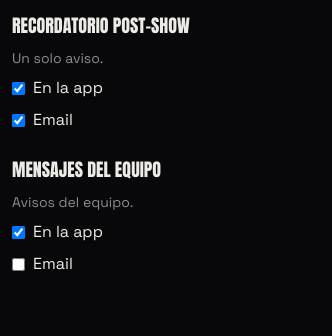
Test case: NotificationPreferencesForm › reverts the switch and shows the error when saving fails
Click the checkbox named "Recordatorio post-show — email".
click(18, 120)  # box [12,114,25,126]
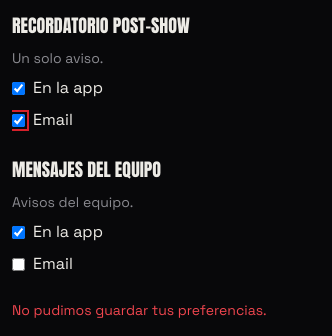
Expected: the message reads "No pudimos guardar tus preferencias.", [12,301,267,319]
